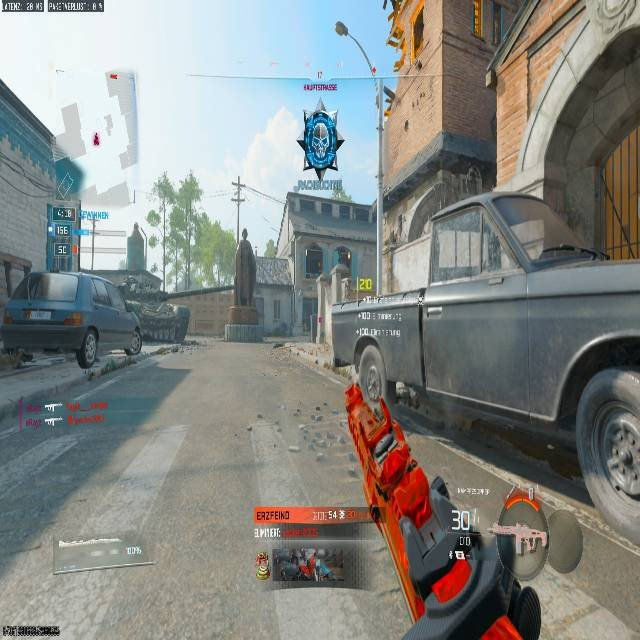player: (298, 110, 343, 179)
